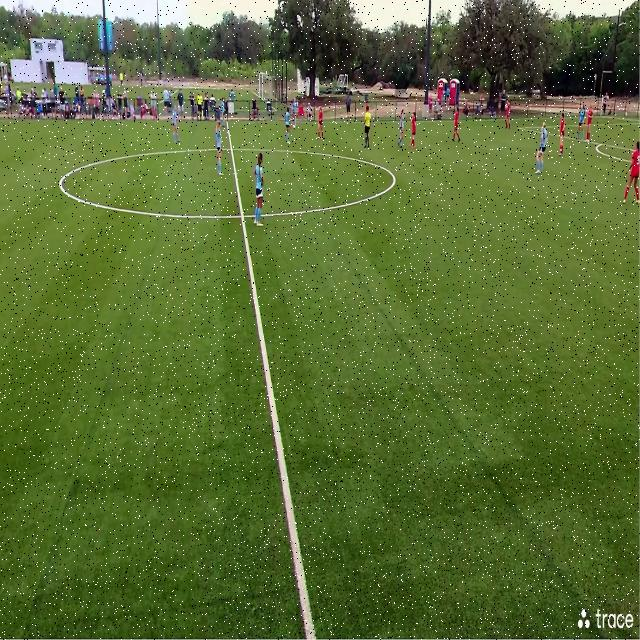Ball: (293, 125, 296, 130)
Referee: (364, 106, 372, 150)
TEAM 1: (623, 141, 640, 205), (559, 108, 567, 156), (450, 108, 460, 146), (411, 107, 419, 149), (316, 105, 325, 141), (586, 104, 594, 142), (503, 96, 511, 130)
TEAM 2: (252, 153, 265, 226), (214, 121, 225, 176), (537, 122, 548, 170), (576, 97, 585, 140), (172, 104, 182, 142), (397, 108, 405, 147), (284, 108, 292, 146), (293, 99, 298, 130)
